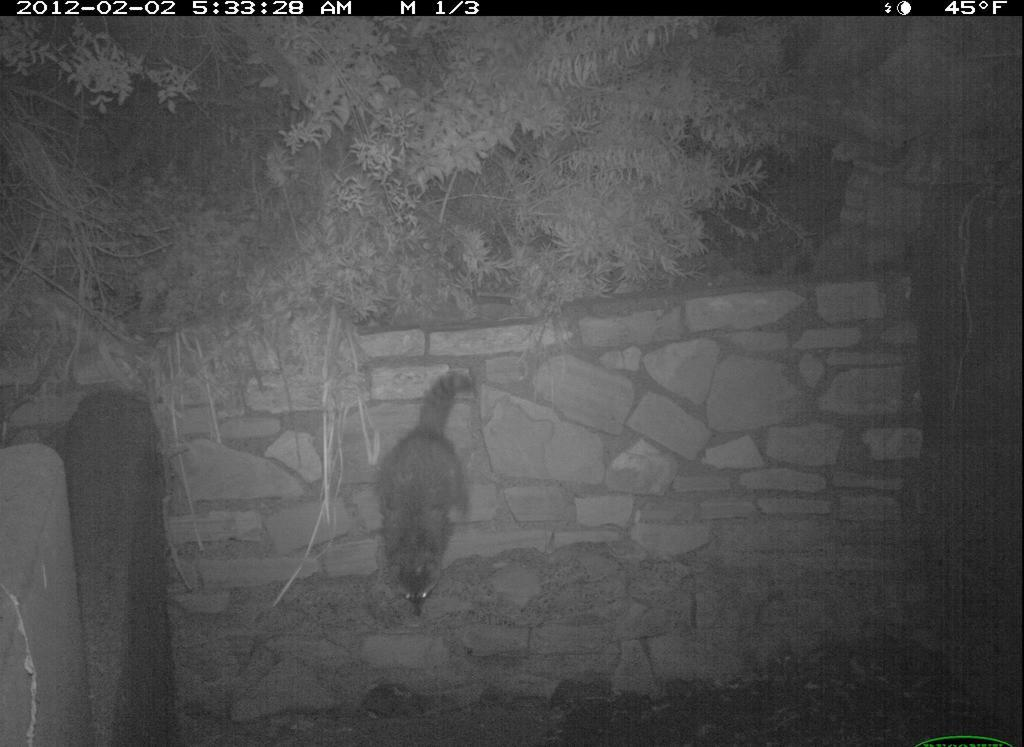raccoon: (369, 366, 509, 610)
